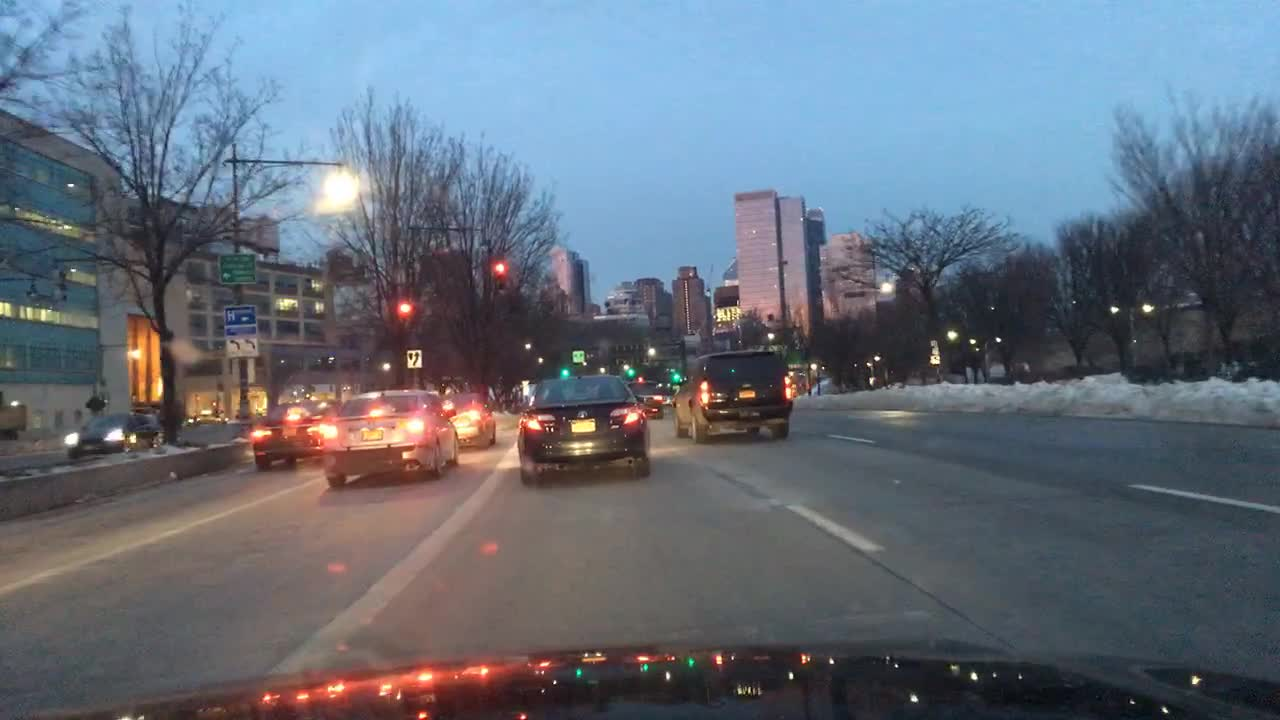car: (516, 370, 651, 486), (313, 386, 461, 487), (674, 347, 794, 443), (249, 395, 343, 469), (63, 408, 163, 458), (440, 388, 497, 450), (625, 373, 668, 419)
traffic light: (397, 296, 413, 318), (492, 256, 507, 278)
traffic sign: (215, 249, 259, 284), (221, 300, 258, 336), (222, 334, 259, 361), (404, 347, 423, 370)
